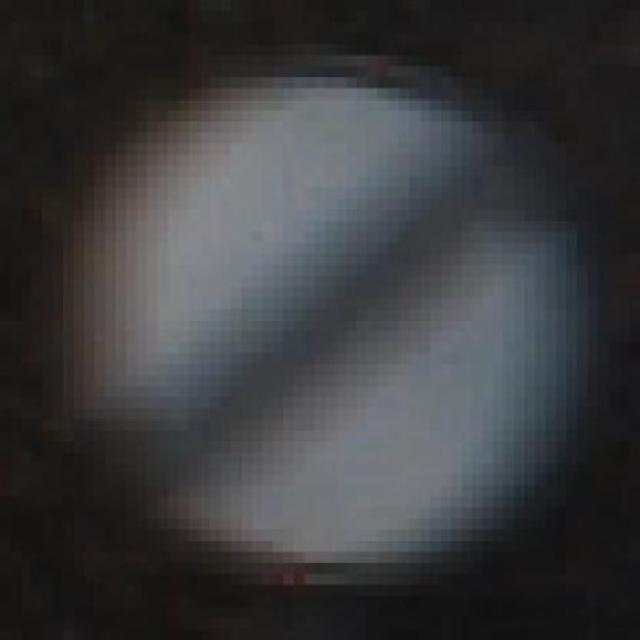End of all speed and passing limits: (68, 43, 603, 574)
